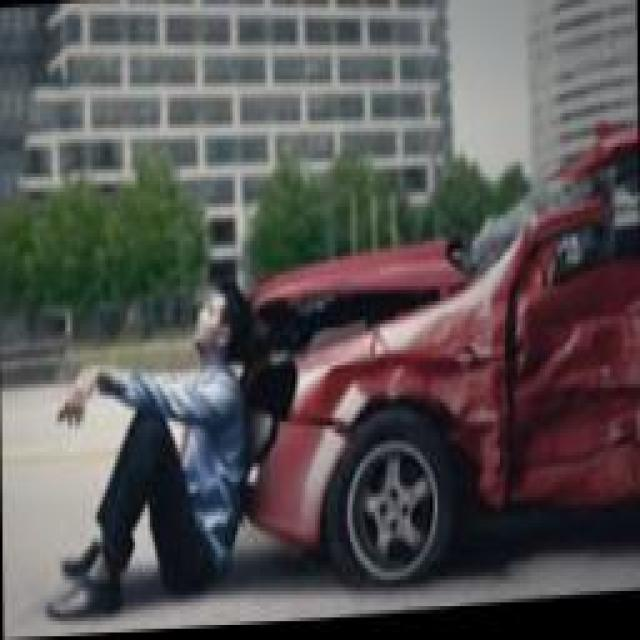Bonnet: (254, 244, 460, 360)
Bumper: (240, 421, 345, 560)
Door: (512, 151, 640, 509)
Fender: (292, 281, 513, 512)
Light: (244, 359, 295, 424)
Windshield: (464, 180, 602, 281)
